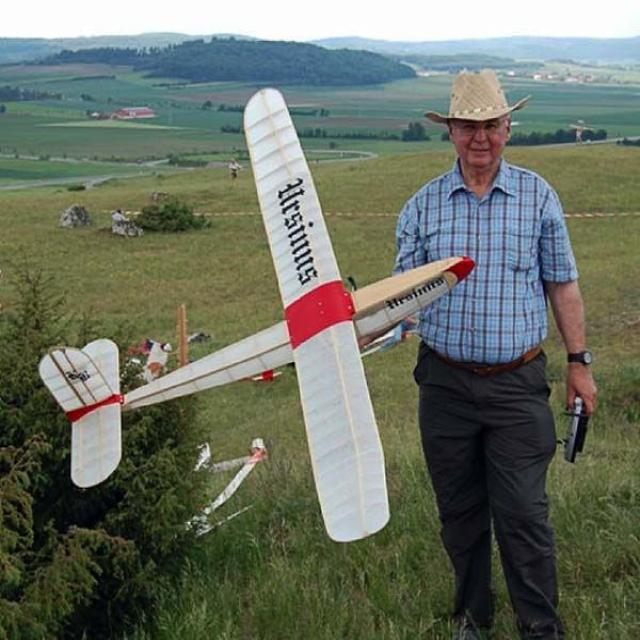iha: (36, 90, 476, 543)
